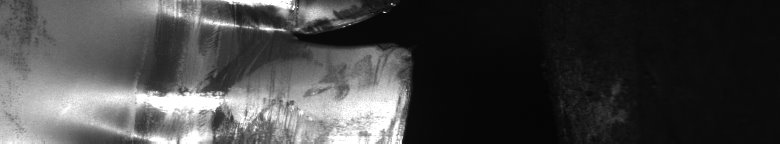ke: (91, 0, 413, 144)
